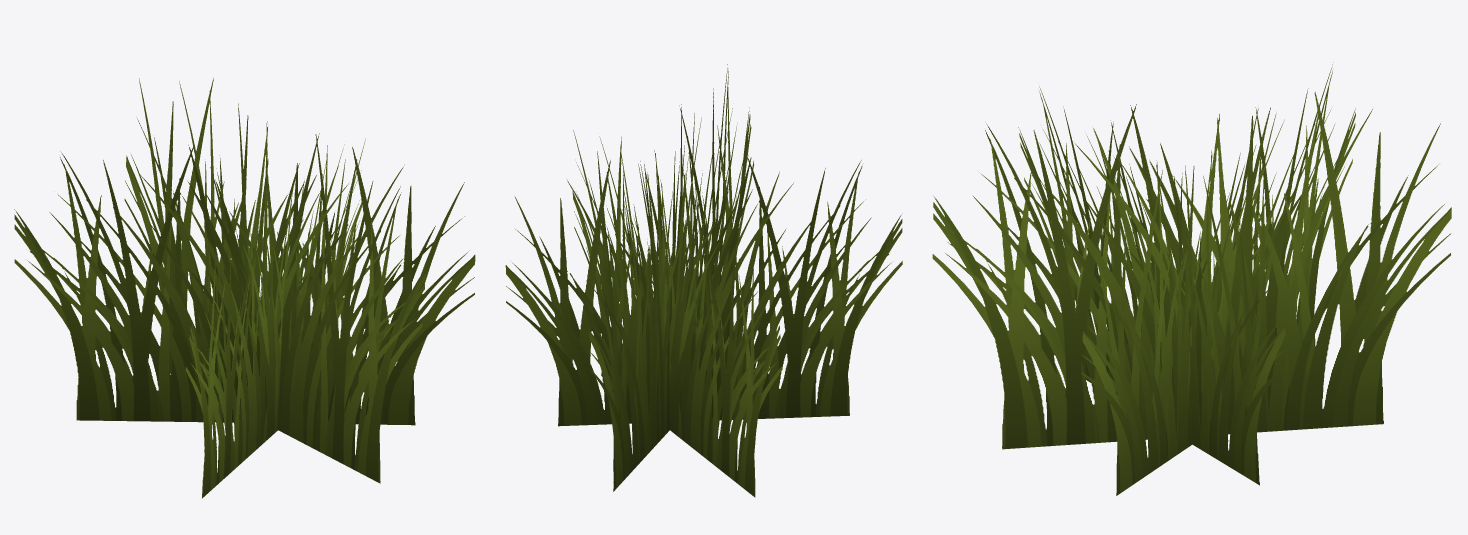
The model's file is grass_3_burnt2.glb.
The picture shows the model from 3 angles, left to right: view 1: azimuth 30°, elevation 25°; view 2: azimuth 150°, elevation 25°; view 3: azimuth 270°, elevation 25°; orthographic projection. The views are drawn at different scales.
Visible parts, largest first — view 1: grass_3_burnt2; view 2: grass_3_burnt2; view 3: grass_3_burnt2.
Part boxes in pixels (left/top/right/bottom): grass_3_burnt2: left=14, top=78, right=475, bottom=498; grass_3_burnt2: left=505, top=64, right=902, bottom=497; grass_3_burnt2: left=932, top=62, right=1451, bottom=495.
Size of the model in its own units: 0.4868 by 0.4482 by 0.5752.
Materials: 1 (1 with a texture image).
